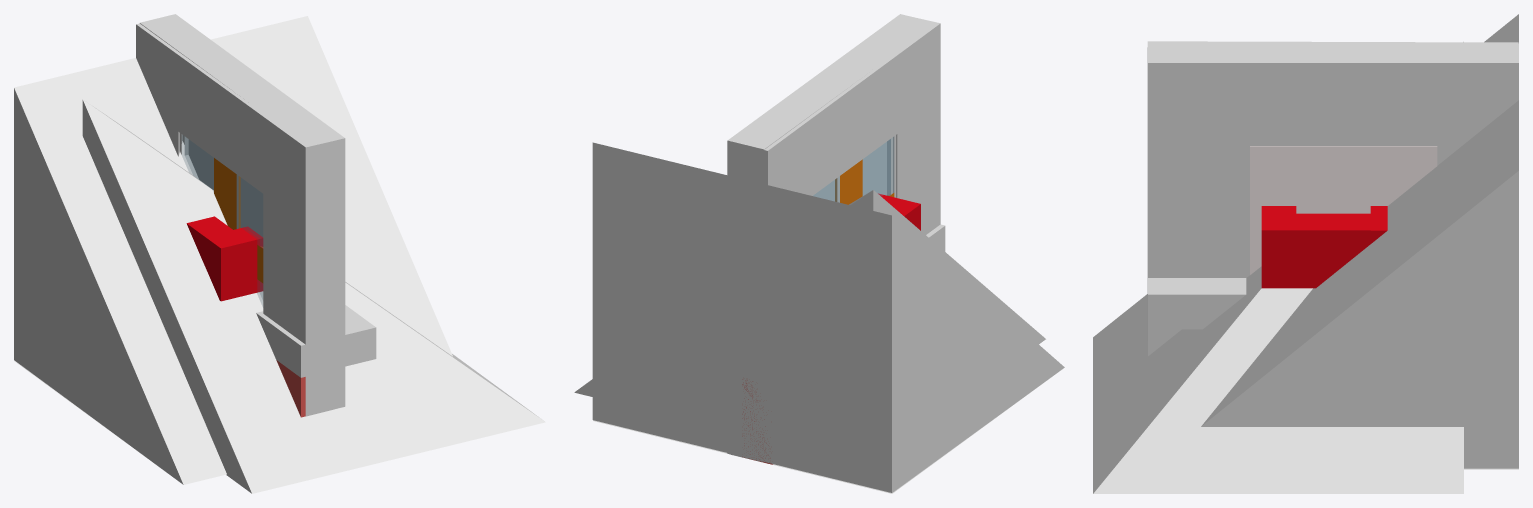
The model's file is HouseFlatsProps_But_0_0.fbx.
The picture shows the model from 3 angles, left to right: view 1: azimuth 30°, elevation 25°; view 2: azimuth 150°, elevation 25°; view 3: azimuth 270°, elevation 25°; orthographic projection. The views are drawn at different scales.
Parts seen in each view (by area): view 1: Plane, Toit, Murré, Mur, Fenêtre, Cheminée, Dessus de mur; view 2: Plane, Murré, Mur, Fenêtre, Toit, Cheminée, SOL; view 3: Plane, Mur, Toit, Porte, Cheminée, Dessus de mur, Fenêtre, Murré.
Boxes of the visible parts, x1,y1,x2,y2 form: Plane: [14, 16, 452, 484]; Toit: [82, 99, 545, 493]; Murré: [136, 23, 339, 416]; Mur: [161, 14, 345, 407]; Fenêtre: [140, 17, 272, 305]; Cheminée: [186, 216, 263, 301]; Dessus de mur: [256, 305, 376, 417]; Plane: [592, 142, 1064, 492]; Murré: [731, 16, 940, 457]; Mur: [727, 14, 910, 457]; Fenêtre: [742, 54, 895, 462]; Toit: [574, 190, 1045, 396]; Cheminée: [878, 193, 920, 230]; SOL: [593, 386, 1038, 493]; Plane: [1201, 14, 1518, 468]; Mur: [1148, 47, 1518, 355]; Toit: [1093, 41, 1463, 493]; Porte: [1250, 146, 1437, 274]; Cheminée: [1261, 206, 1387, 288]; Dessus de mur: [1148, 278, 1246, 329]; Fenêtre: [1242, 43, 1518, 54]; Murré: [1147, 41, 1518, 340].
Bounding box in the file's own units: 1148 × 1005 × 1148.
